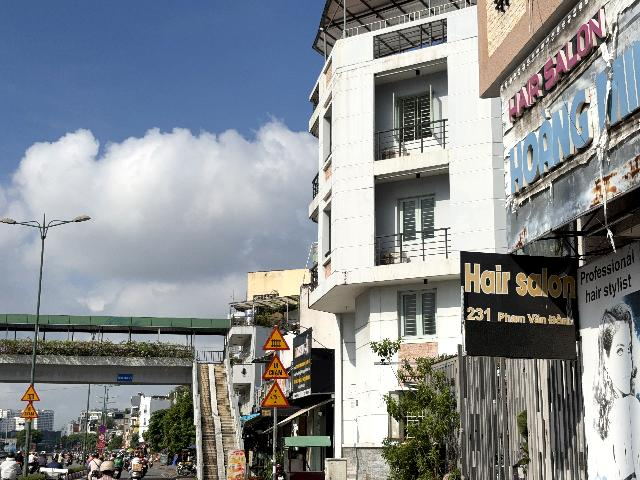chieu-cao-tinh-khong-thuc-te: (261, 381, 290, 408)
di-cham: (262, 353, 290, 379), (19, 401, 38, 418)
noi-giao-nhau-voi-duong-sat-co-rao-chan: (262, 326, 290, 350), (21, 384, 40, 401)
